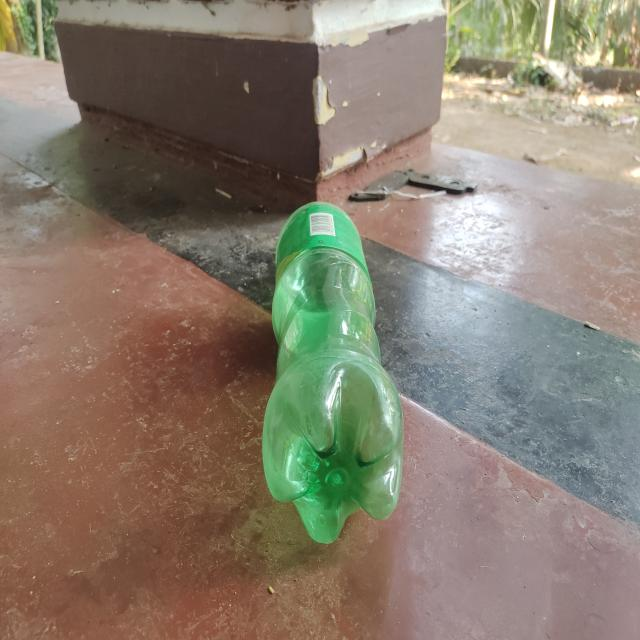plastic: (258, 198, 404, 552)
